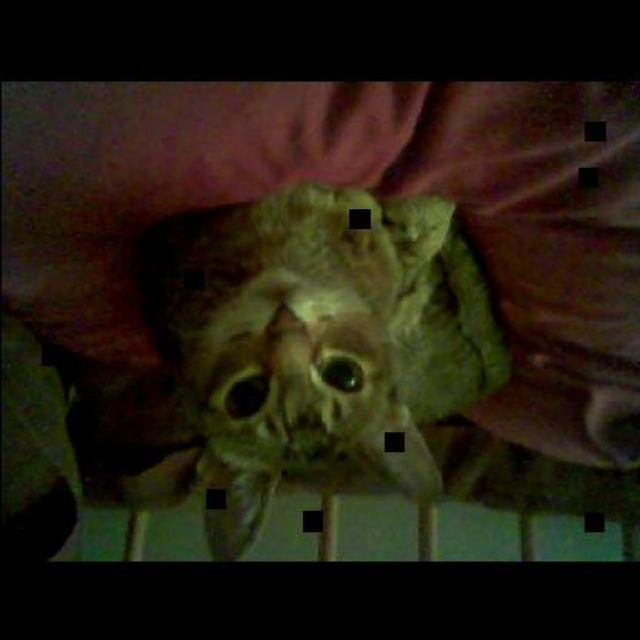unauthorized: (115, 178, 514, 558)
